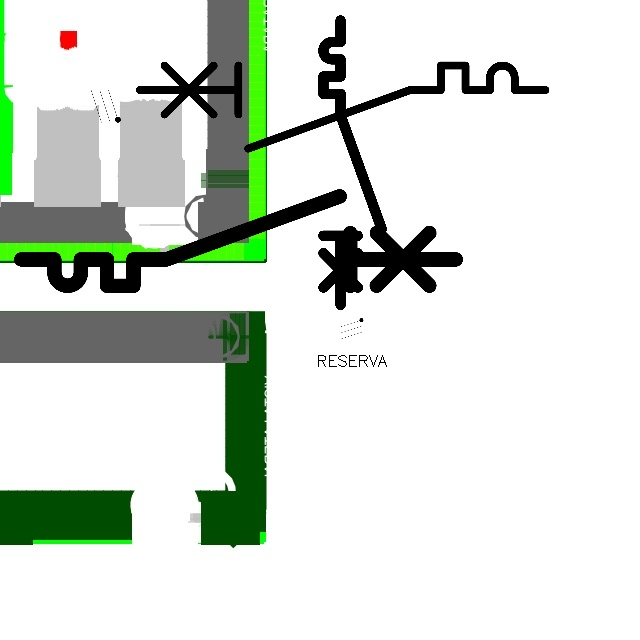interruptor_termomagnetico: (10, 185, 467, 297), (129, 55, 556, 159), (316, 13, 389, 312)
